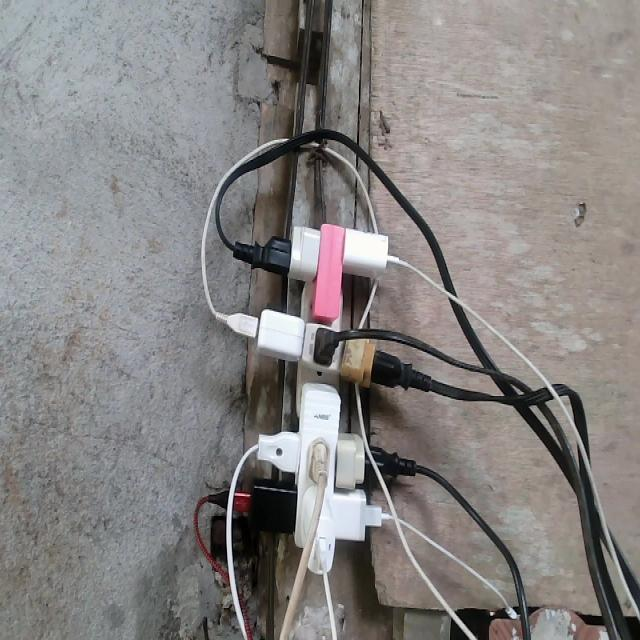-: (206, 214, 433, 578)
